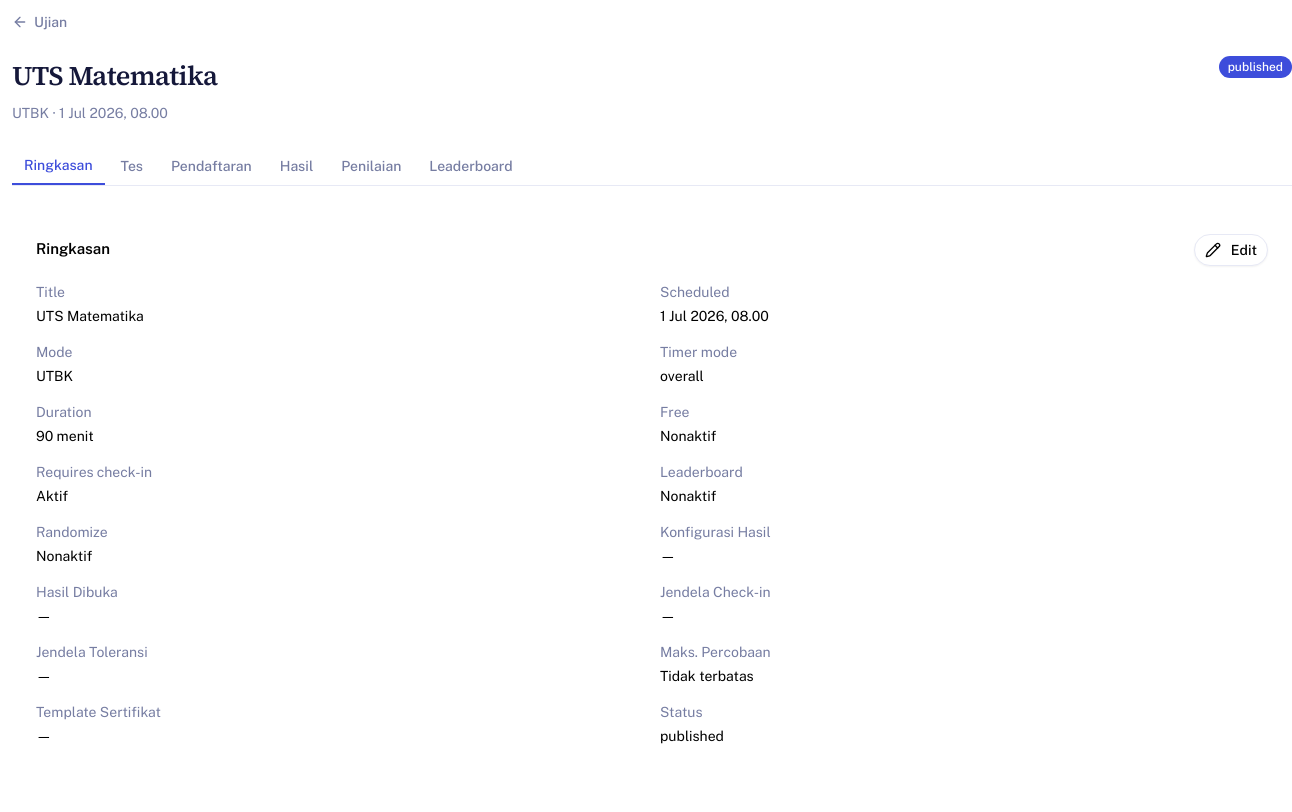
Test: ExamPackageDetailPage — preset buttons in tests tab › shows UTBK preset button when exam mode is utbk
Click the button "Tes": (132, 166) [108,146,155,184]
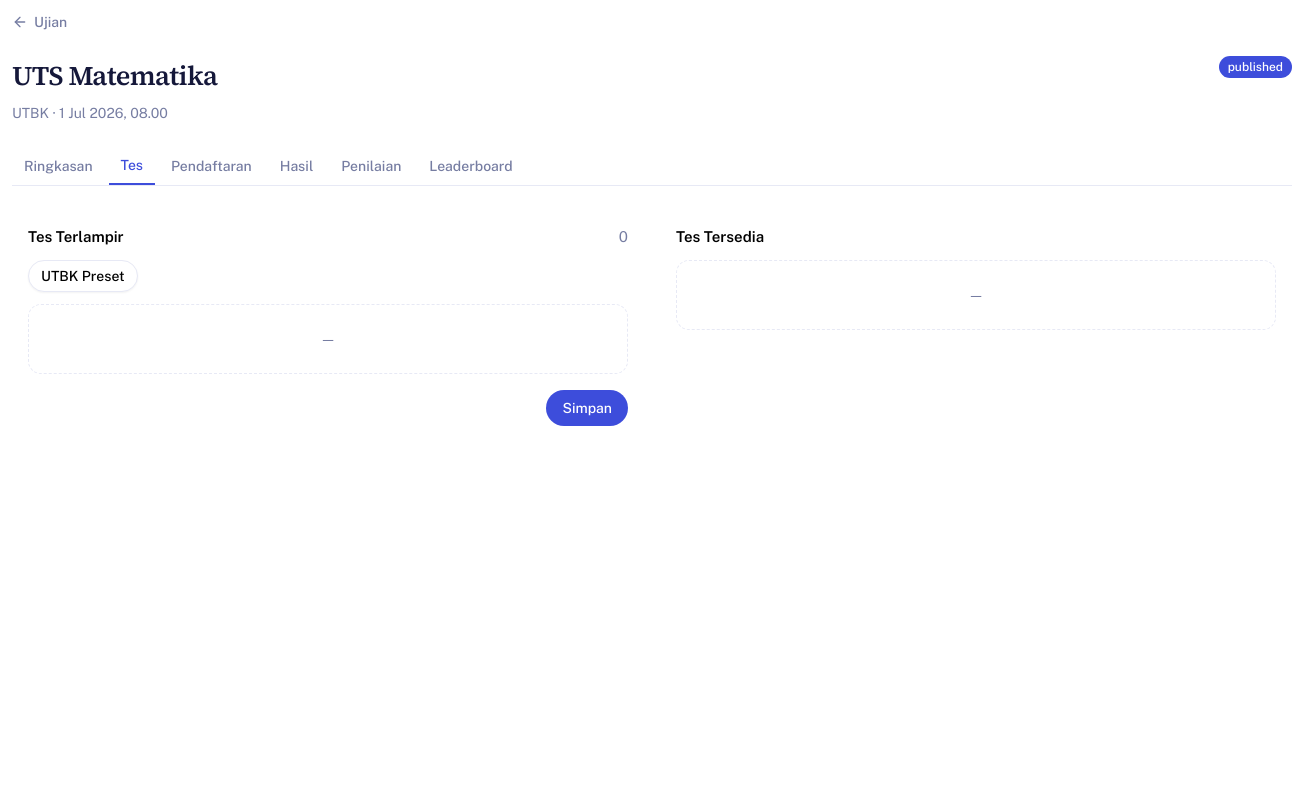
Expected: the button "UTBK Preset" is shown, [28,260,138,292]
